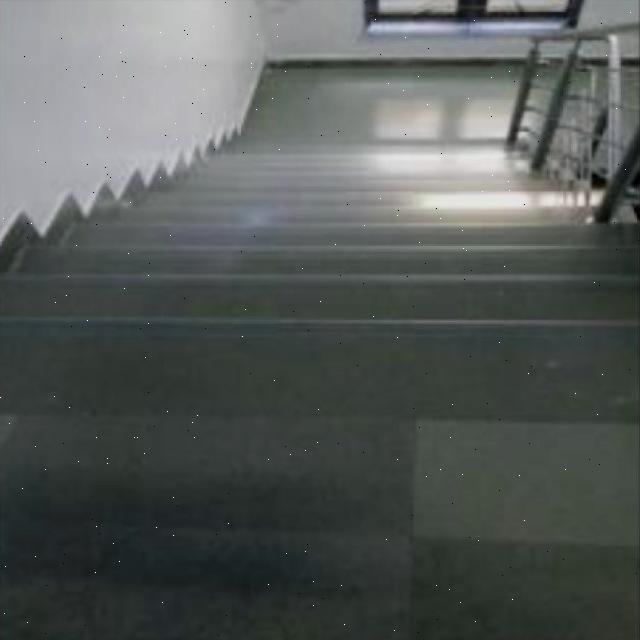stair: (49, 181, 534, 397)
